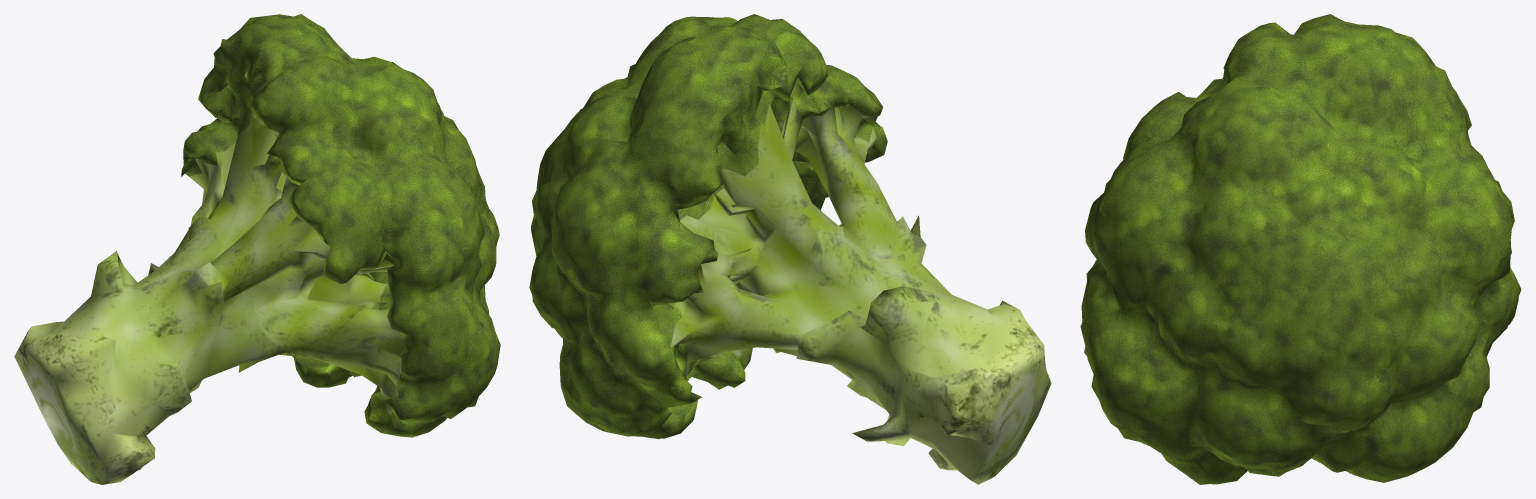
File: broccoli_b01.glb
The picture shows the model from 3 angles, left to right: view 1: azimuth 30°, elevation 25°; view 2: azimuth 150°, elevation 25°; view 3: azimuth 270°, elevation 25°; orthographic projection. The views are drawn at different scales.
Parts seen in each view (by area): view 1: sm_food_produce_broccoli_b01_mesh_00; view 2: sm_food_produce_broccoli_b01_mesh_00; view 3: sm_food_produce_broccoli_b01_mesh_00.
Boxes of the visible parts, x1,y1,x2,y2 form: sm_food_produce_broccoli_b01_mesh_00: [14, 14, 500, 484]; sm_food_produce_broccoli_b01_mesh_00: [529, 14, 1051, 484]; sm_food_produce_broccoli_b01_mesh_00: [1080, 14, 1521, 484].
Size of the model in its own units: 0.1788 by 0.1448 by 0.138.
1 material, 1 textured.
